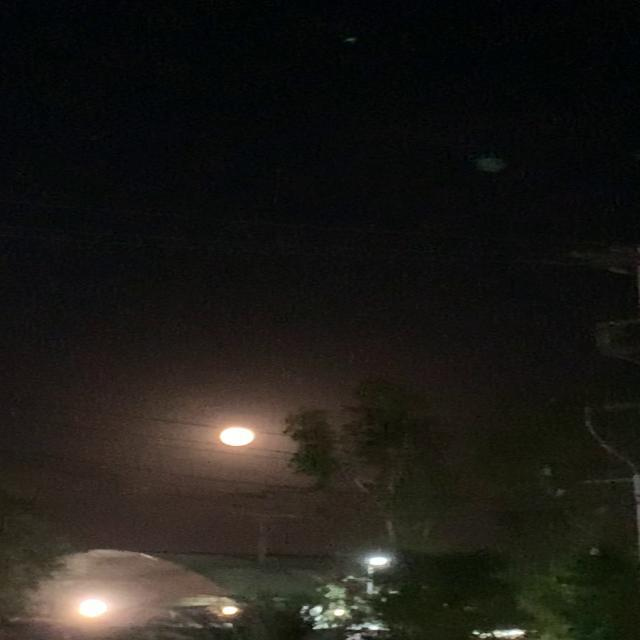moon: (213, 423, 255, 447)
